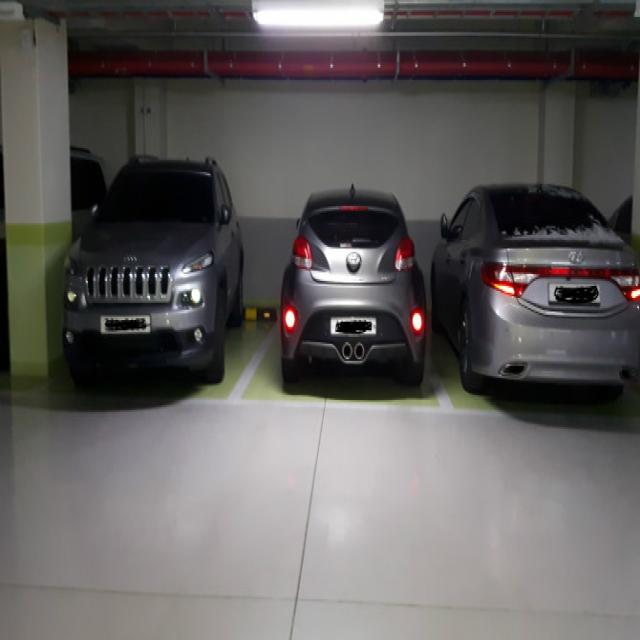occupied: (455, 182, 637, 400), (59, 162, 231, 383), (279, 184, 441, 408)
